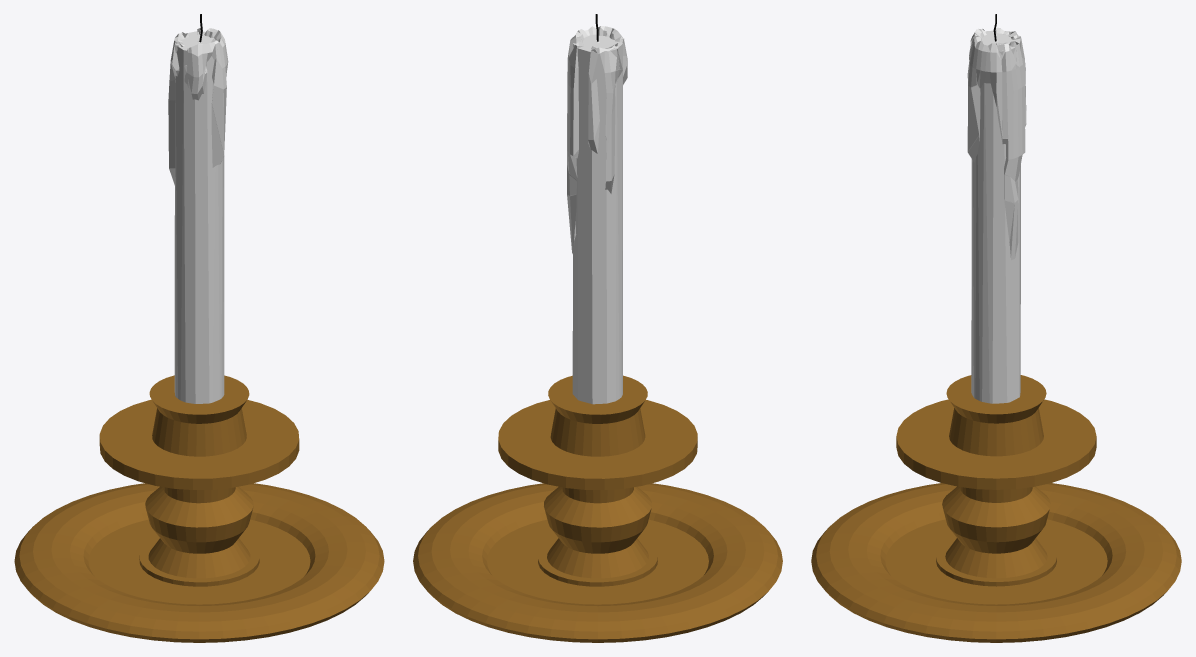
Rendered from Kitchen_SmallProps_Candle_small-handle.fbx.
3 views of the same model, side by side, from view 1: azimuth 30°, elevation 25°; view 2: azimuth 150°, elevation 25°; view 3: azimuth 270°, elevation 25° (orthographic).
Parts seen in each view (by area): view 1: Ljushållare, Ljus, Melted_part; view 2: Ljushållare, Ljus, Melted_part; view 3: Ljushållare, Ljus, Melted_part.
Boxes of the visible parts, bbox=[...] form: Ljushållare: bbox=[14, 375, 384, 642]; Ljus: bbox=[174, 31, 224, 403]; Melted_part: bbox=[168, 28, 228, 185]; Ljushållare: bbox=[413, 375, 782, 642]; Ljus: bbox=[572, 34, 622, 404]; Melted_part: bbox=[567, 26, 627, 253]; Ljushållare: bbox=[811, 375, 1181, 642]; Ljus: bbox=[971, 30, 1020, 403]; Melted_part: bbox=[967, 27, 1026, 260].
Bounding box in the file's own units: 14.81 × 24.63 × 14.81.
